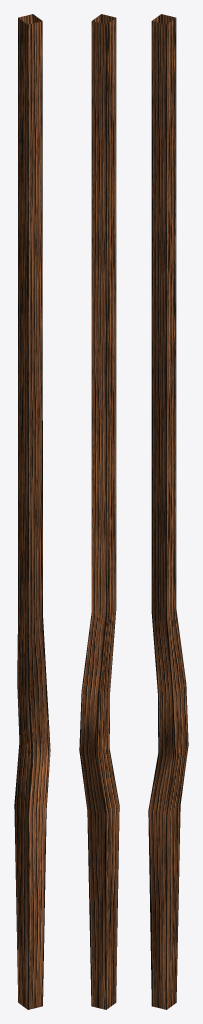
The model's file is LAKETOWN_PUB_PS_PUB_CEILING_POLE373765.obj.
3 views of the same model, side by side, from view 1: azimuth 30°, elevation 25°; view 2: azimuth 150°, elevation 25°; view 3: azimuth 330°, elevation 25° (orthographic).
Visible parts, largest first — view 1: ling_pole373765; view 2: ling_pole373765; view 3: ling_pole373765.
Part boxes in pixels (x1,y1,x2,y2): ling_pole373765: (14, 14, 50, 1009); ling_pole373765: (79, 14, 119, 1009); ling_pole373765: (148, 14, 188, 1009).
Size of the model in its own units: 23.73 by 909 by 26.65.
